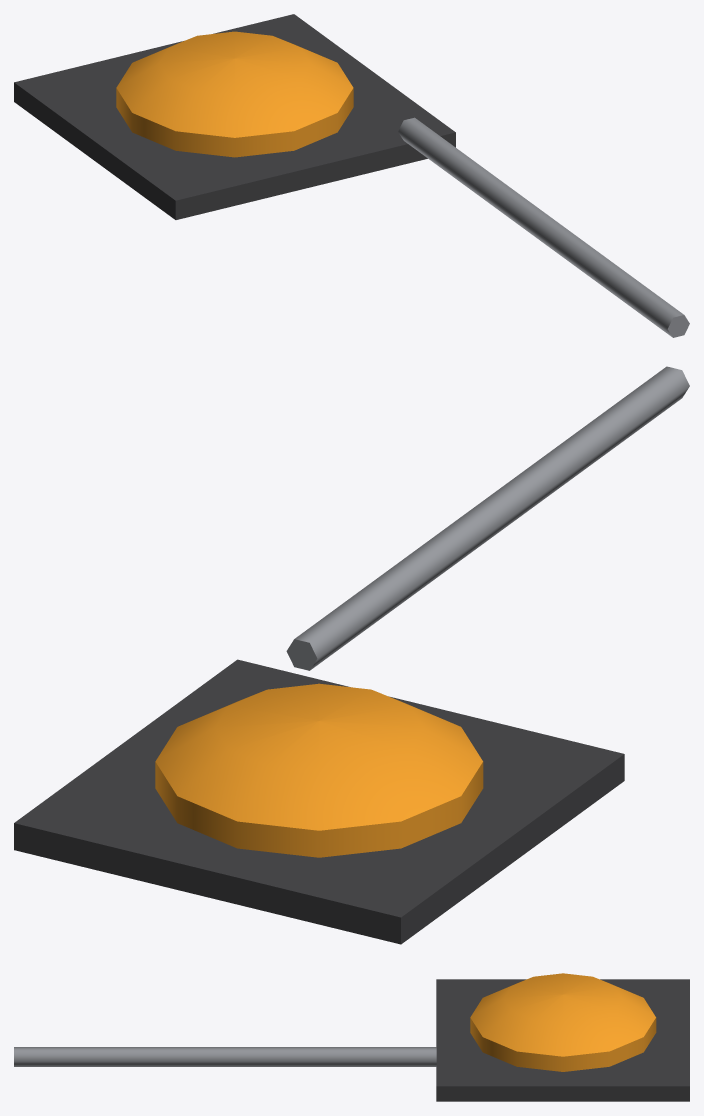
The model's file is pod4_beacon.obj.
The picture shows the model from 3 angles, top to bottom: view 1: azimuth 30°, elevation 25°; view 2: azimuth 150°, elevation 25°; view 3: azimuth 270°, elevation 25°; orthographic projection. The views are drawn at different scales.
Visible parts, largest first — view 1: pod4_beacon; view 2: pod4_beacon; view 3: pod4_beacon.
Part boxes in pixels (x1,y1,x2,y2): pod4_beacon: (14,14,689,337); pod4_beacon: (14,366,689,944); pod4_beacon: (14,973,689,1101).
Bounding box in the file's own units: 0.3 × 0.07 × 0.8.
